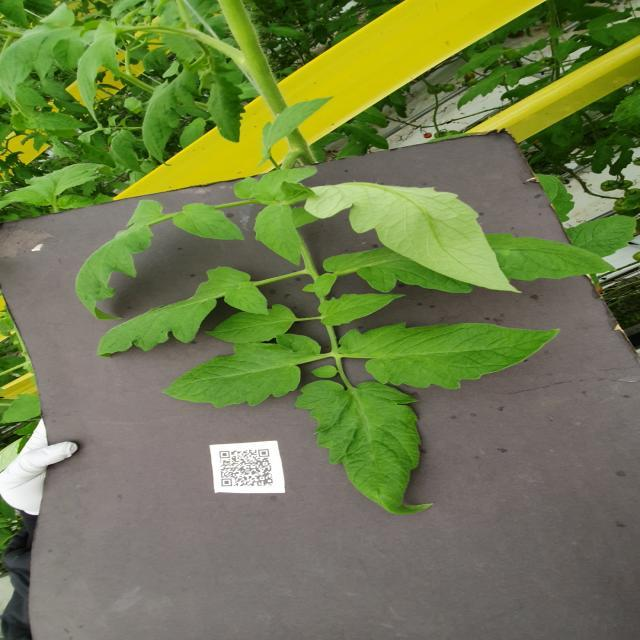Tomato healthy leaf: (304, 180, 524, 294), (292, 380, 432, 516), (320, 232, 620, 294), (92, 266, 270, 357), (337, 322, 561, 389), (162, 333, 322, 408), (73, 201, 168, 321), (0, 2, 84, 106), (139, 59, 201, 168), (256, 96, 335, 166), (202, 304, 296, 344), (454, 63, 526, 110), (16, 161, 105, 198), (318, 292, 408, 326), (253, 204, 302, 266), (566, 212, 640, 253), (233, 165, 319, 200), (172, 202, 245, 240), (206, 76, 247, 143), (453, 42, 505, 80), (108, 128, 149, 174), (342, 120, 390, 151), (56, 193, 94, 209)
